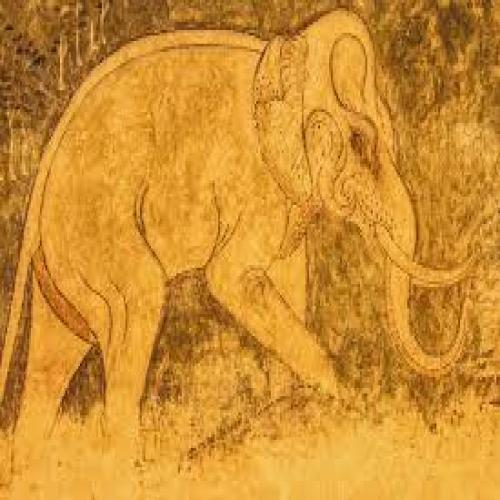asian_elephant-endangered: (4, 11, 473, 488)
